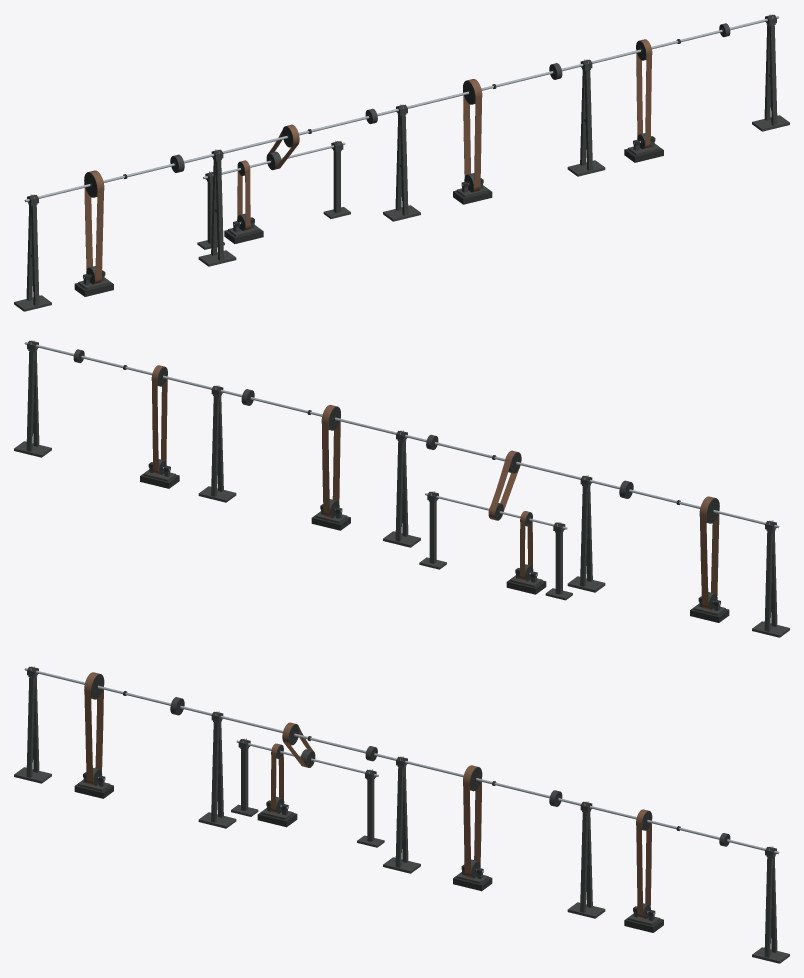
3 views of the same model, one above another, from view 1: azimuth 30°, elevation 25°; view 2: azimuth 150°, elevation 25°; view 3: azimuth 330°, elevation 25° (orthographic).
Visible parts, largest first — view 1: Standard1_foot, Belt1_drop; view 2: Standard1_foot, Belt1_drop; view 3: Standard1_foot, Belt1_drop.
Boxes of the visible parts, left/top/right/bottom form: Standard1_foot: left=14, top=14, right=789, bottom=311; Belt1_drop: left=84, top=39, right=651, bottom=284; Standard1_foot: left=14, top=340, right=789, bottom=637; Belt1_drop: left=152, top=365, right=719, bottom=610; Standard1_foot: left=14, top=666, right=789, bottom=963; Belt1_drop: left=84, top=672, right=651, bottom=919.
Bounding box in the file's own units: 30.36 × 4.45 × 1.96.
2 materials, 2 textured.
